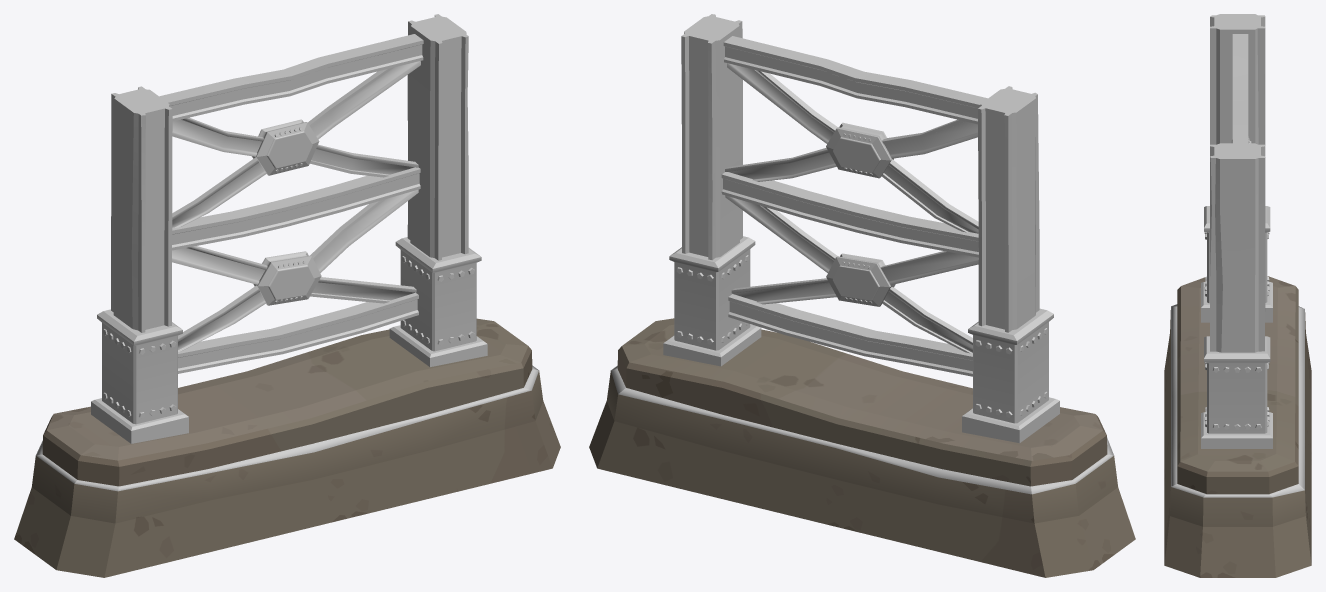
The model's file is SM_Bld_Bridge_Supports_01.fbx.
3 views of the same model, side by side, from view 1: azimuth 30°, elevation 25°; view 2: azimuth 150°, elevation 25°; view 3: azimuth 270°, elevation 25° (orthographic). The views are drawn at different scales.
Visible parts, largest first — view 1: SM_Bld_Bridge_Supports_01; view 2: SM_Bld_Bridge_Supports_01; view 3: SM_Bld_Bridge_Supports_01.
Boxes of the visible parts, bbox=[...] form: SM_Bld_Bridge_Supports_01: bbox=[14, 14, 560, 577]; SM_Bld_Bridge_Supports_01: bbox=[589, 14, 1135, 577]; SM_Bld_Bridge_Supports_01: bbox=[1164, 14, 1311, 577].
Size of the model in its own units: 3054 by 2473 by 862.
